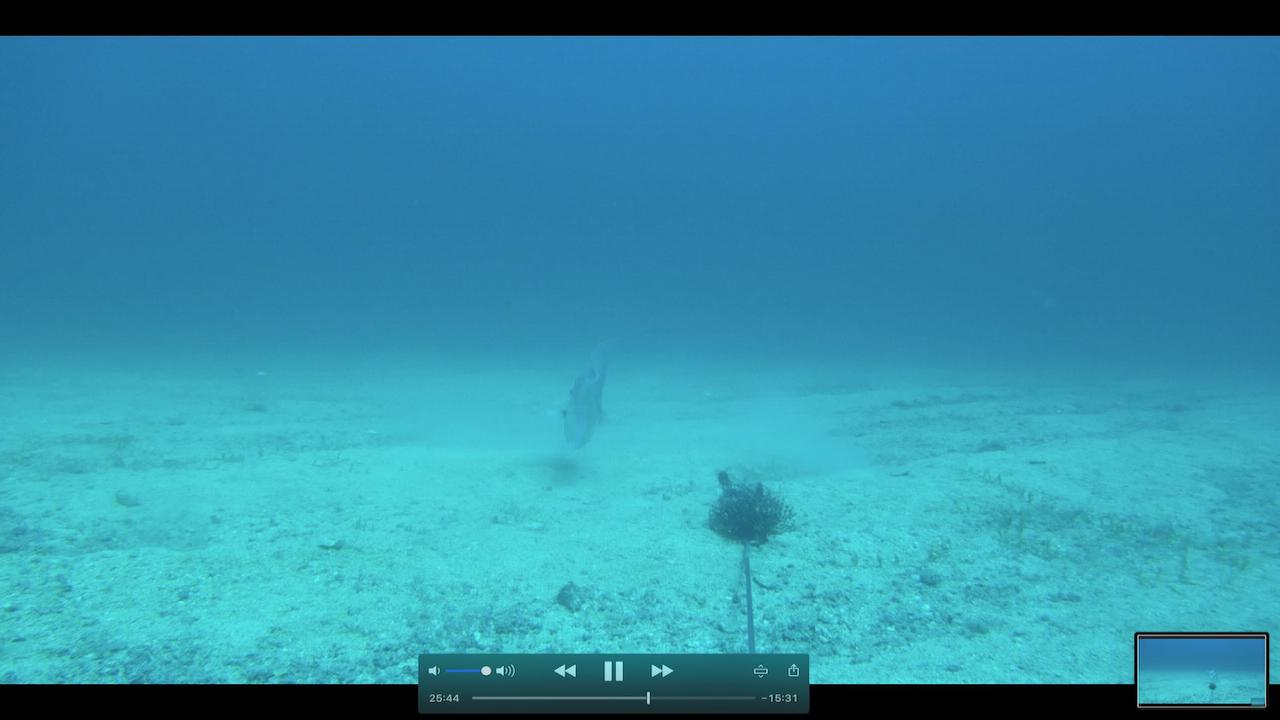balistes: (535, 328, 626, 461)
